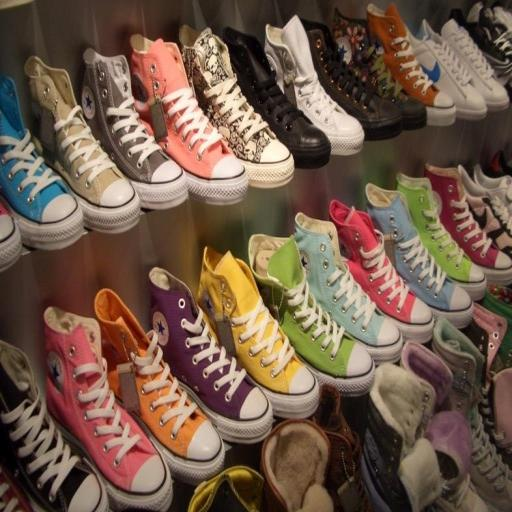shoe: (44, 307, 172, 510), (94, 289, 225, 484), (149, 267, 273, 443), (198, 246, 318, 418), (248, 234, 375, 396), (24, 56, 140, 233), (130, 34, 248, 204), (179, 25, 295, 188), (0, 341, 109, 512), (81, 48, 188, 209), (294, 213, 402, 364), (365, 183, 473, 328), (432, 317, 512, 512), (223, 27, 330, 168), (329, 200, 434, 343), (401, 342, 488, 512), (0, 77, 83, 249), (265, 15, 364, 155), (301, 18, 403, 140), (362, 363, 442, 512), (332, 7, 427, 130), (396, 173, 486, 301), (367, 3, 456, 126), (424, 163, 512, 285), (408, 19, 488, 120), (312, 385, 372, 512), (260, 419, 338, 512), (440, 18, 510, 114), (451, 1, 512, 97), (458, 166, 512, 257), (463, 303, 508, 387), (188, 465, 264, 512), (479, 368, 512, 471), (482, 284, 512, 370), (472, 164, 512, 216), (435, 474, 489, 512), (0, 462, 33, 512), (0, 203, 21, 272), (482, 149, 512, 178)
